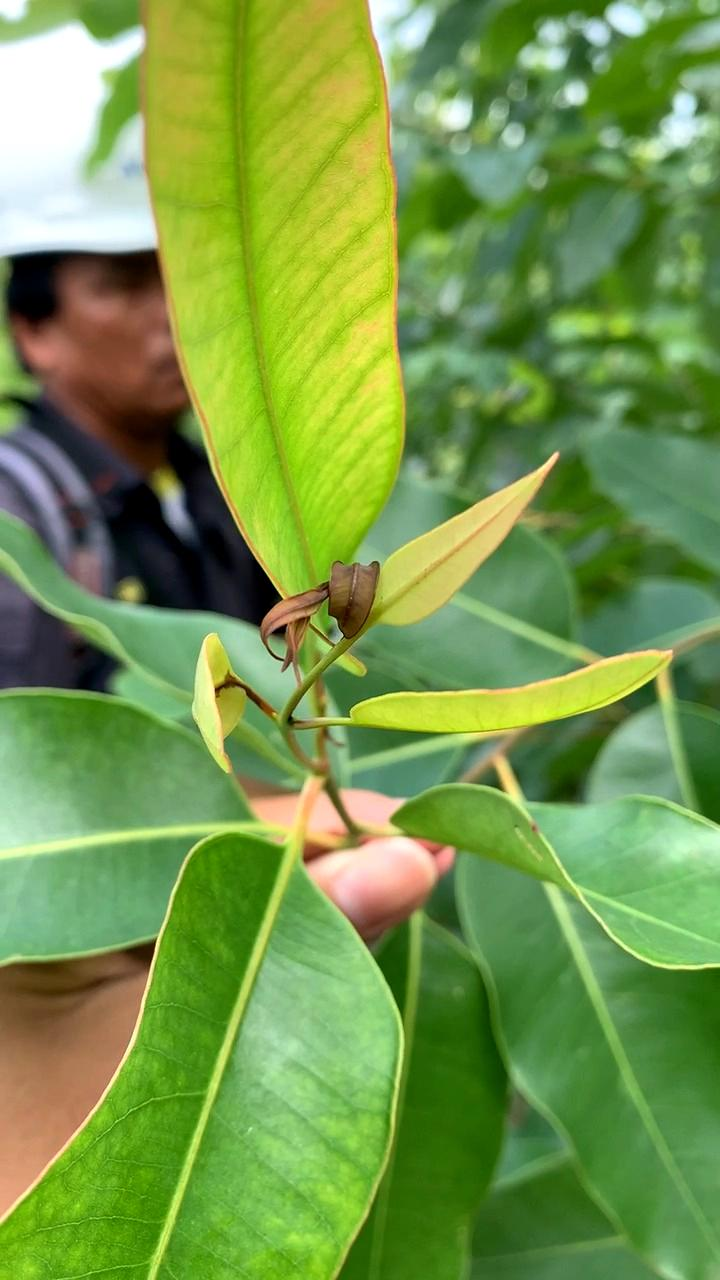Helopeltis-Withered Sprout: (245, 533, 395, 705)
